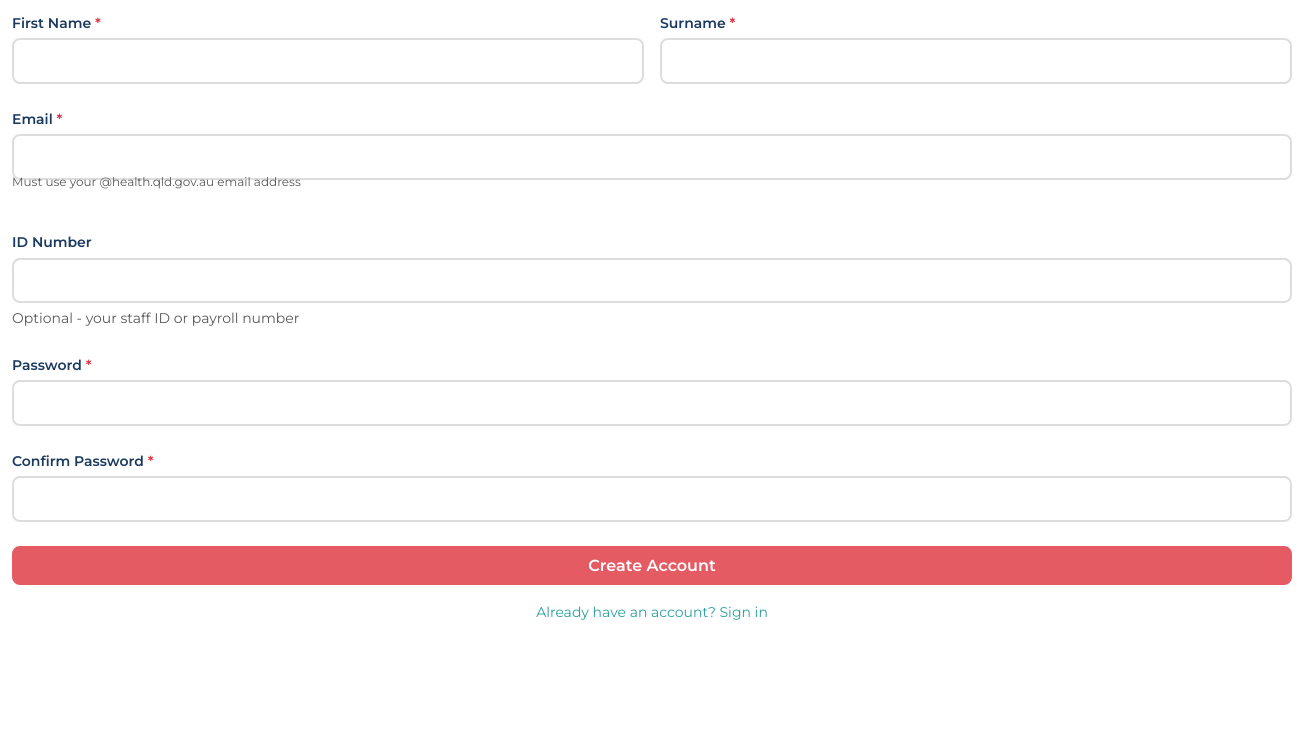
Test case: RegisterForm › validates password mismatch
Type "J" into the field labelled "First Name *" at [328, 61], box [12,38,644,84]
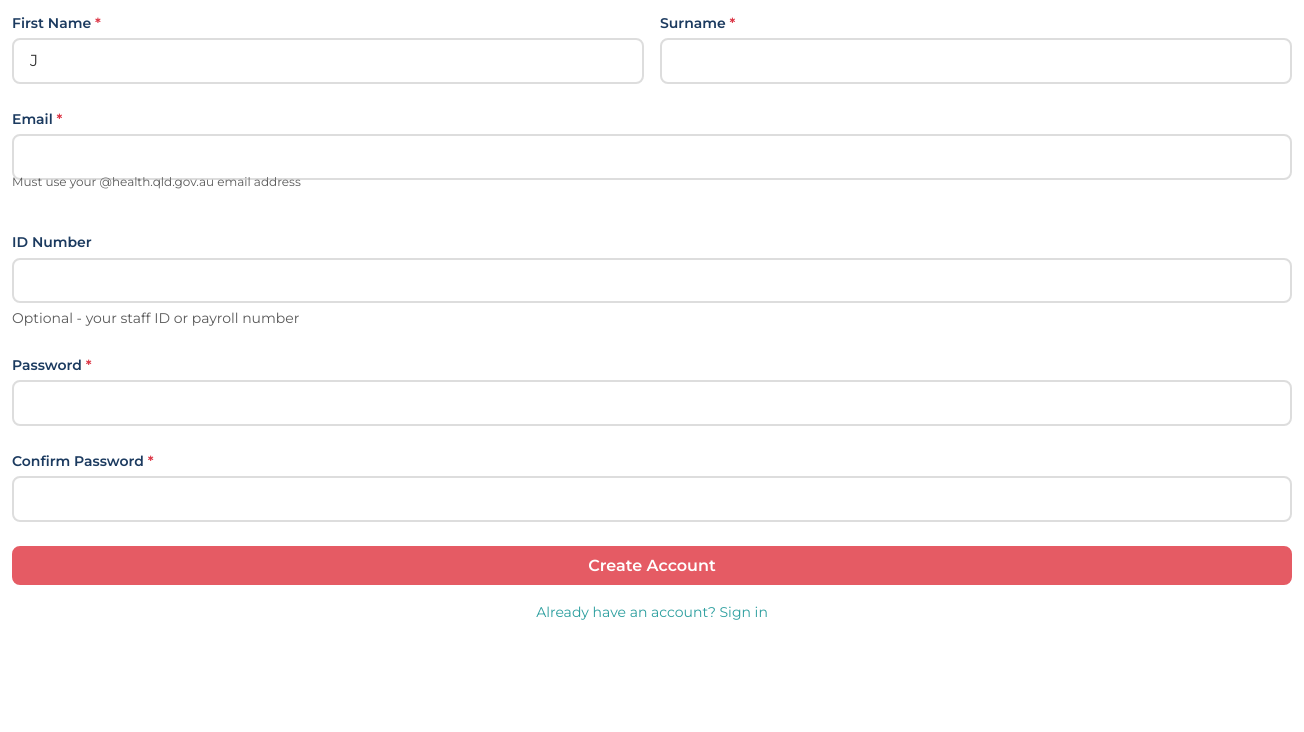
Type "D" into the field labelled "Surname *" at [976, 61], box [660,38,1292,84]
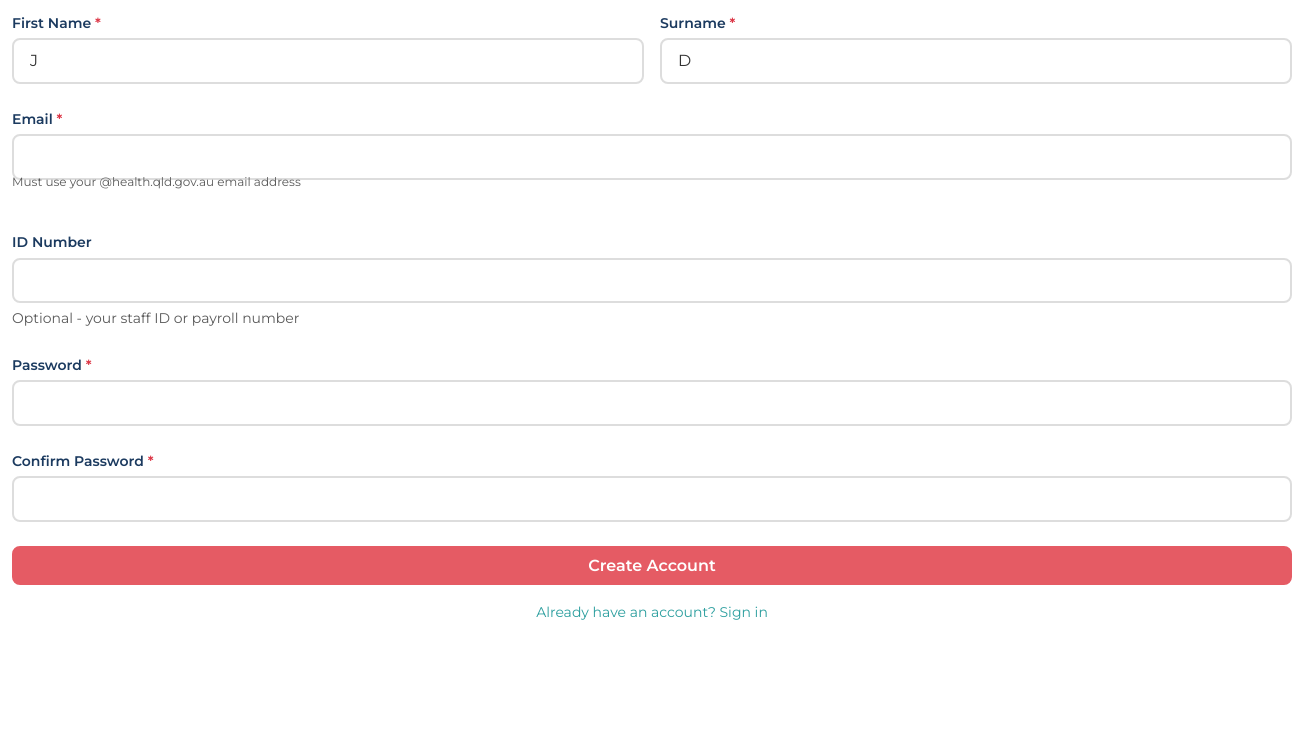
Type "j@health.qld.gov.au" into the field labelled "Email *" at [652, 157], box [12,134,1292,180]
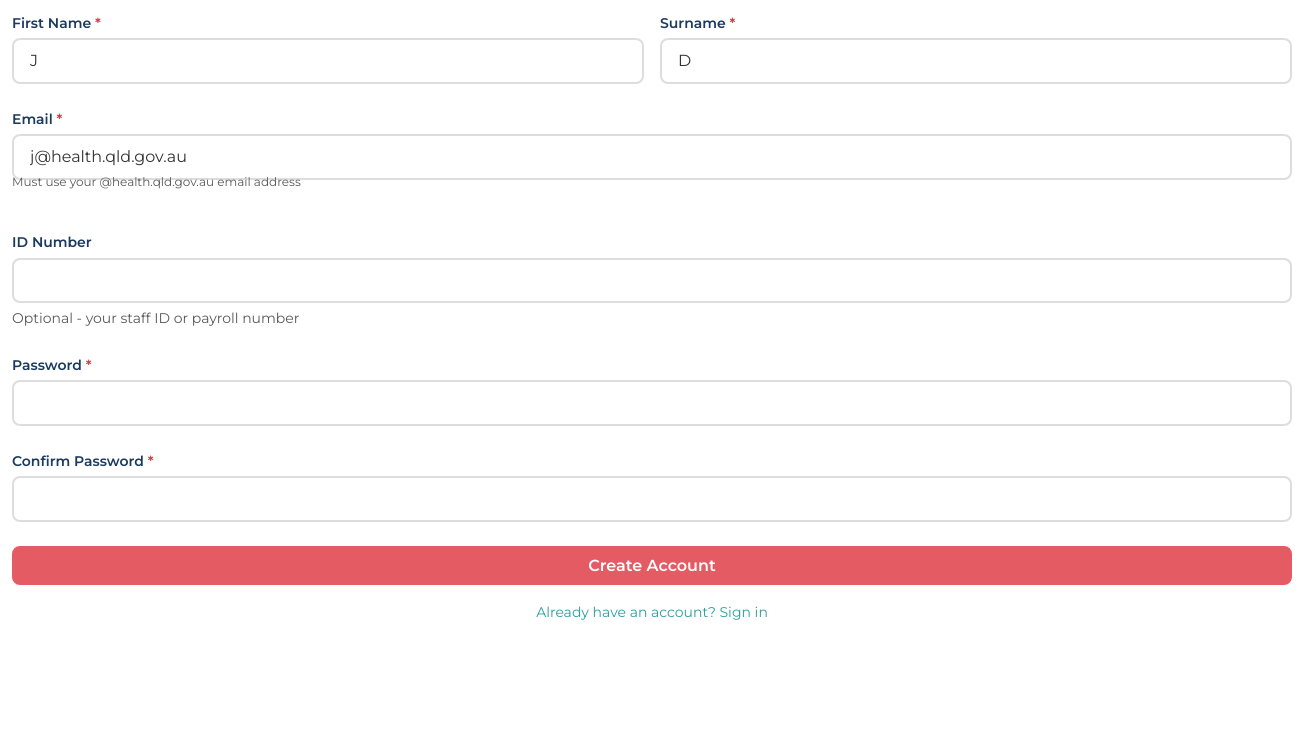
Type "Password1!" into the password field labelled "Password *" at [652, 403], box [12,380,1292,426]
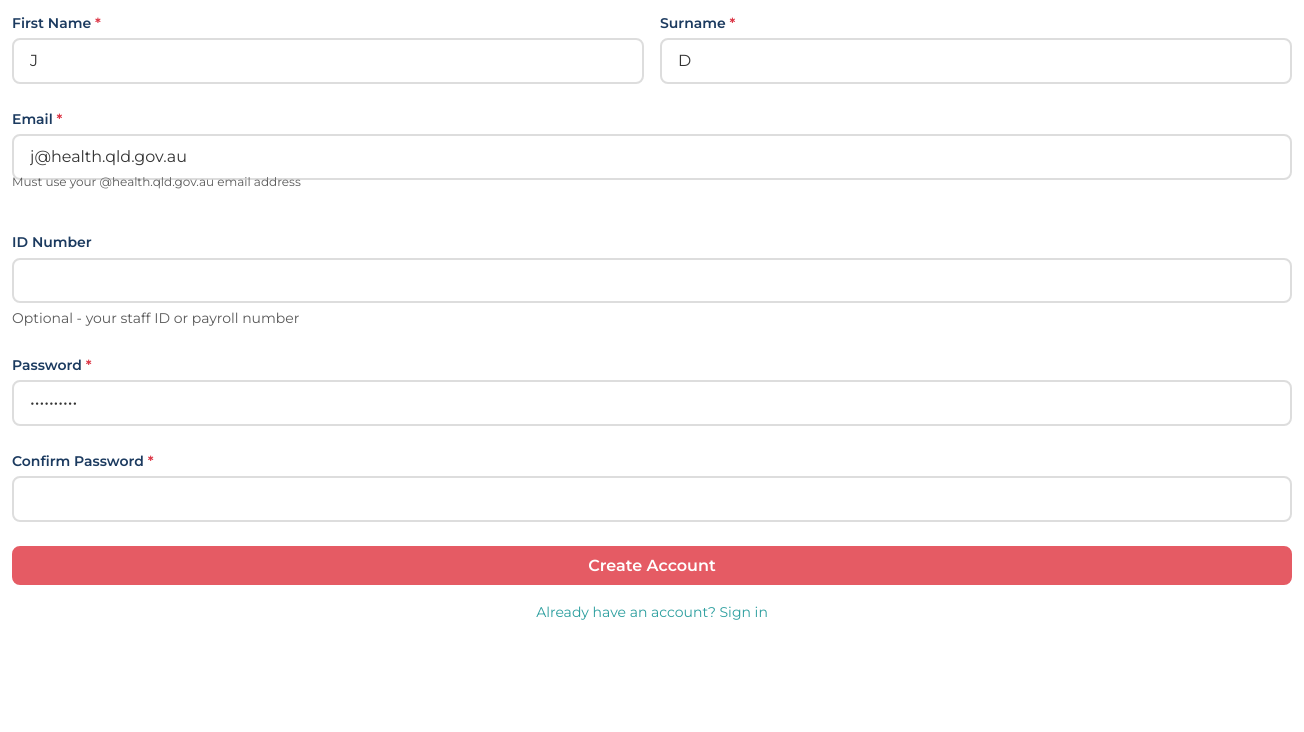
Type "Different!" into the password field labelled "Confirm Password *" at [652, 499], box [12,476,1292,522]
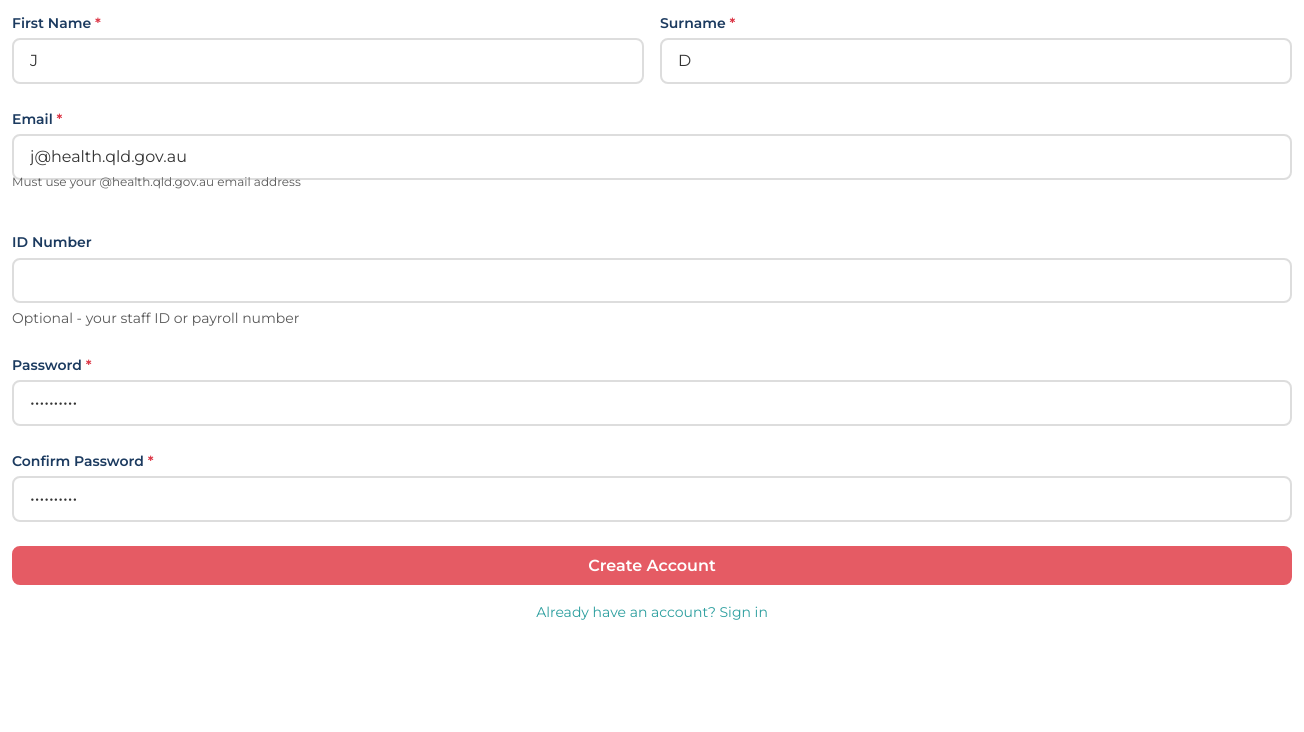
Click the button "Create Account" at [652, 565], box [12,546,1292,584]
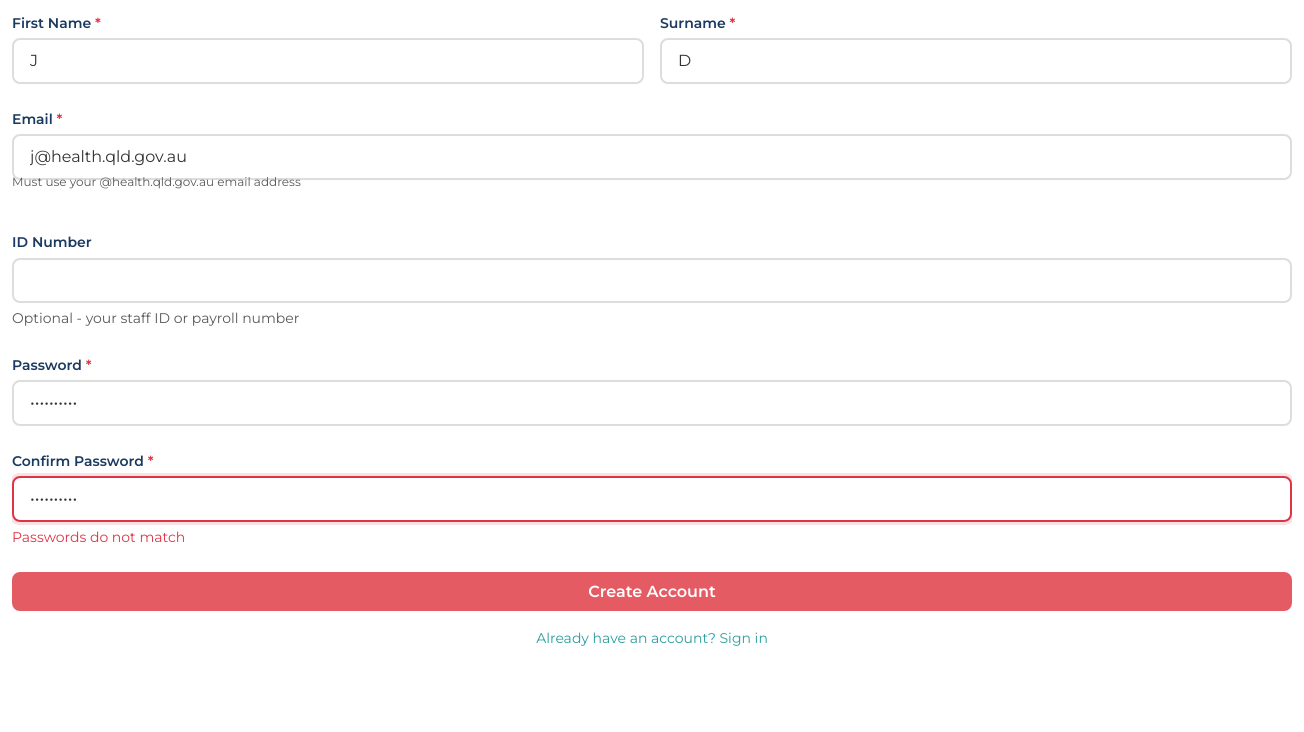
Result: the text "Passwords do not match" is shown at [12,528,185,546]
